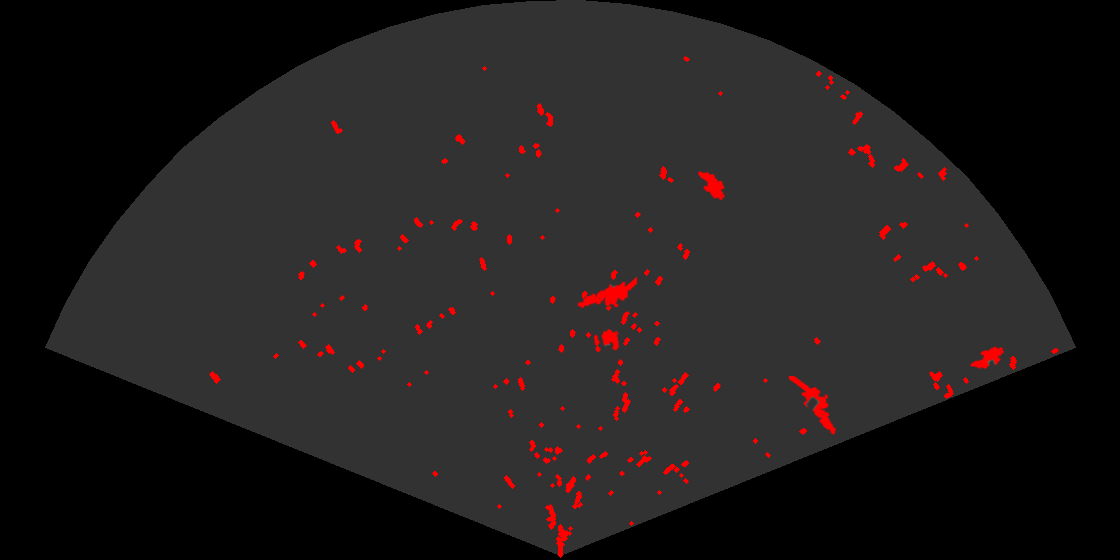AUV: (696, 170, 727, 202), (968, 345, 1006, 371)
ball: (592, 328, 621, 354)
frogman: (789, 376, 838, 436), (576, 275, 637, 310)
